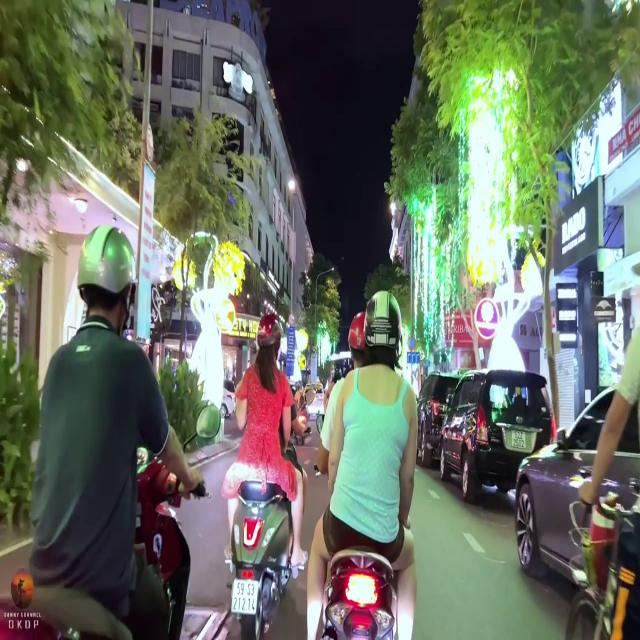bien_trang: (229, 572, 259, 615), (513, 430, 525, 448)
